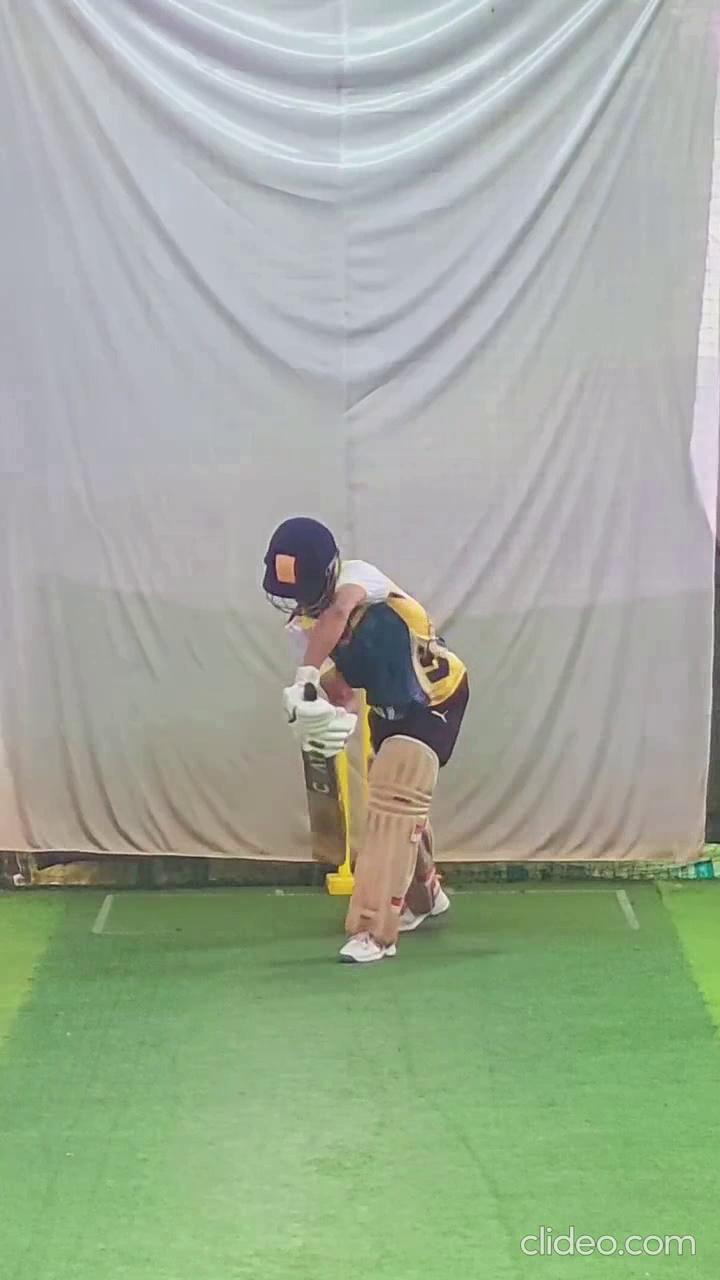bat: (301, 748, 350, 871)
